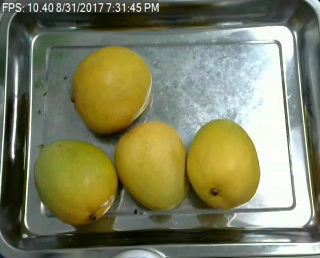Mango: (34, 140, 118, 224), (71, 46, 152, 133), (113, 122, 188, 212), (185, 119, 258, 208)
